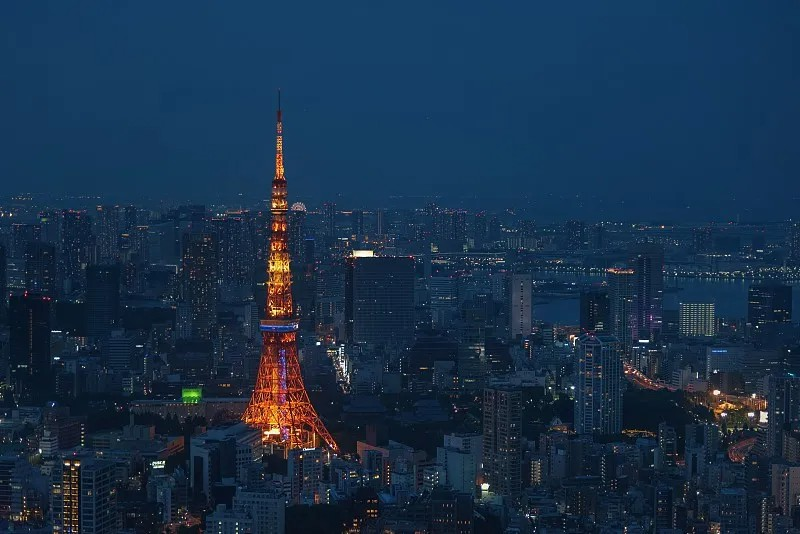Tokyo: (237, 84, 341, 456)
